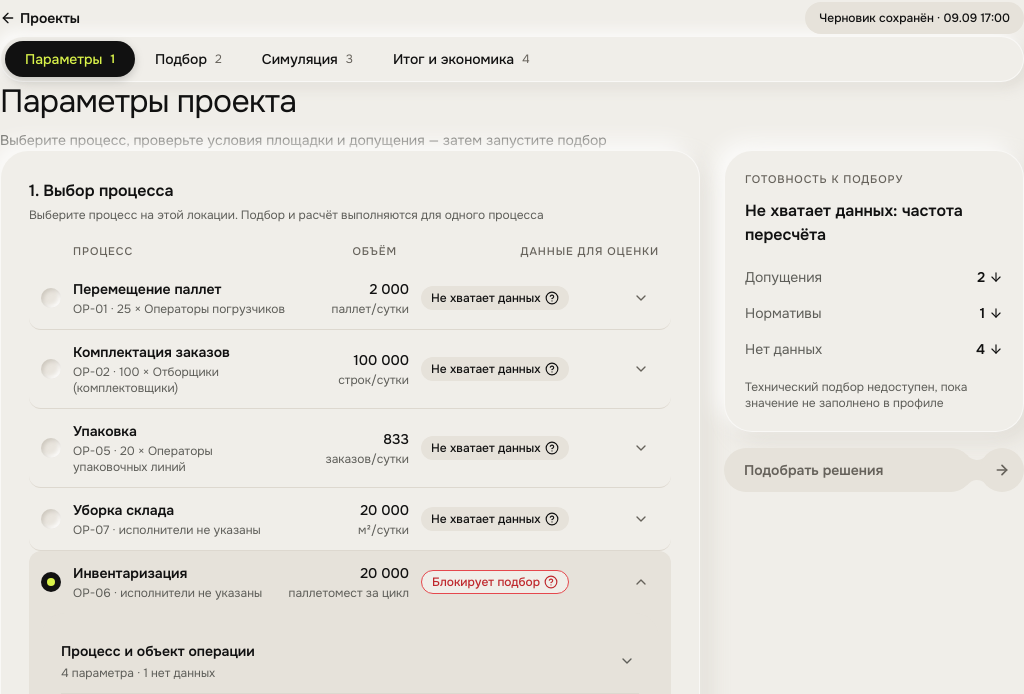
Test: Шаг 1 «Параметры проекта» (доска 16325, экран 1.1; PRD 11.2) › пользователь: смена процесса сохраняется в черновик (D-21, D-94)
Step 1. Click the radio button labelled "Перемещение паллет" → (225, 298), box [29,267,421,329]
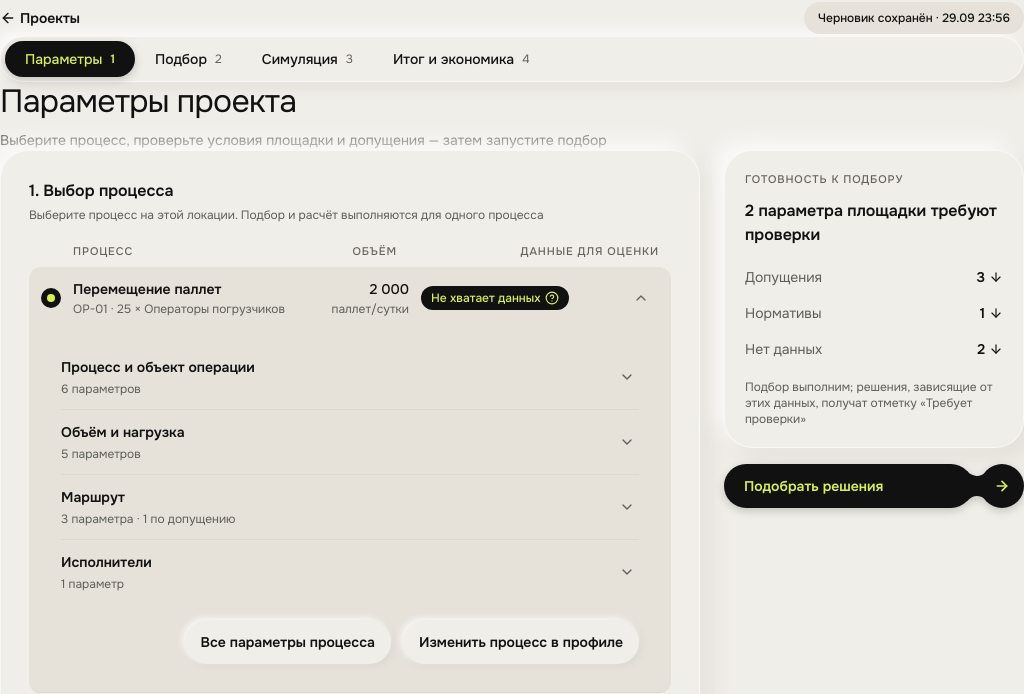
Expected: the text "Черновик сохранён · 29.09 23:56" is shown, [804,2,1023,34]
Result: the button "Подобрать решения" is enabled at [724,464,1023,508]
